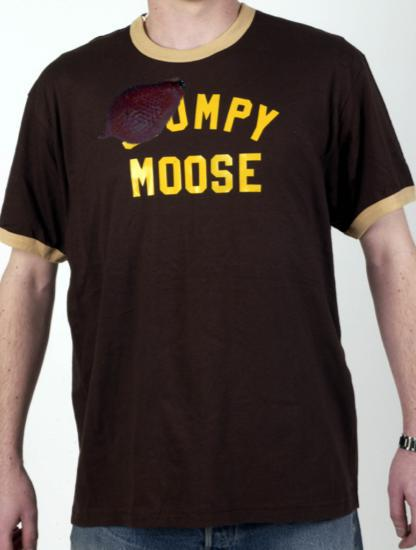Salak: (91, 61, 193, 163)
